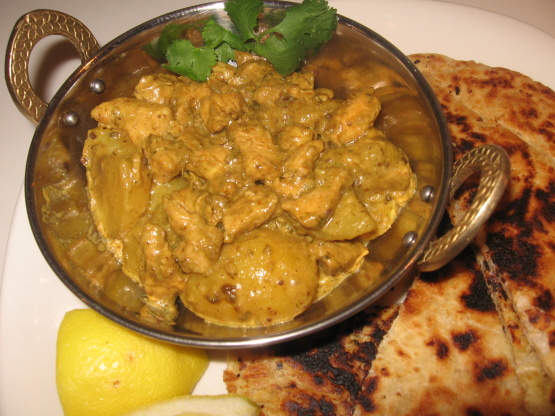chicken_curry: (100, 58, 367, 306)
